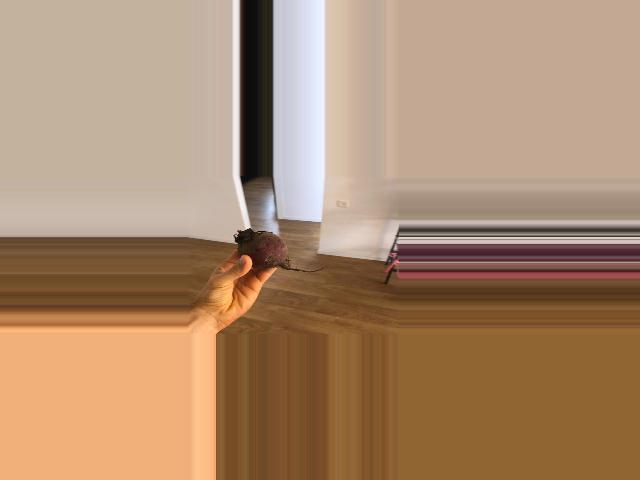beet: (235, 229, 327, 272)
